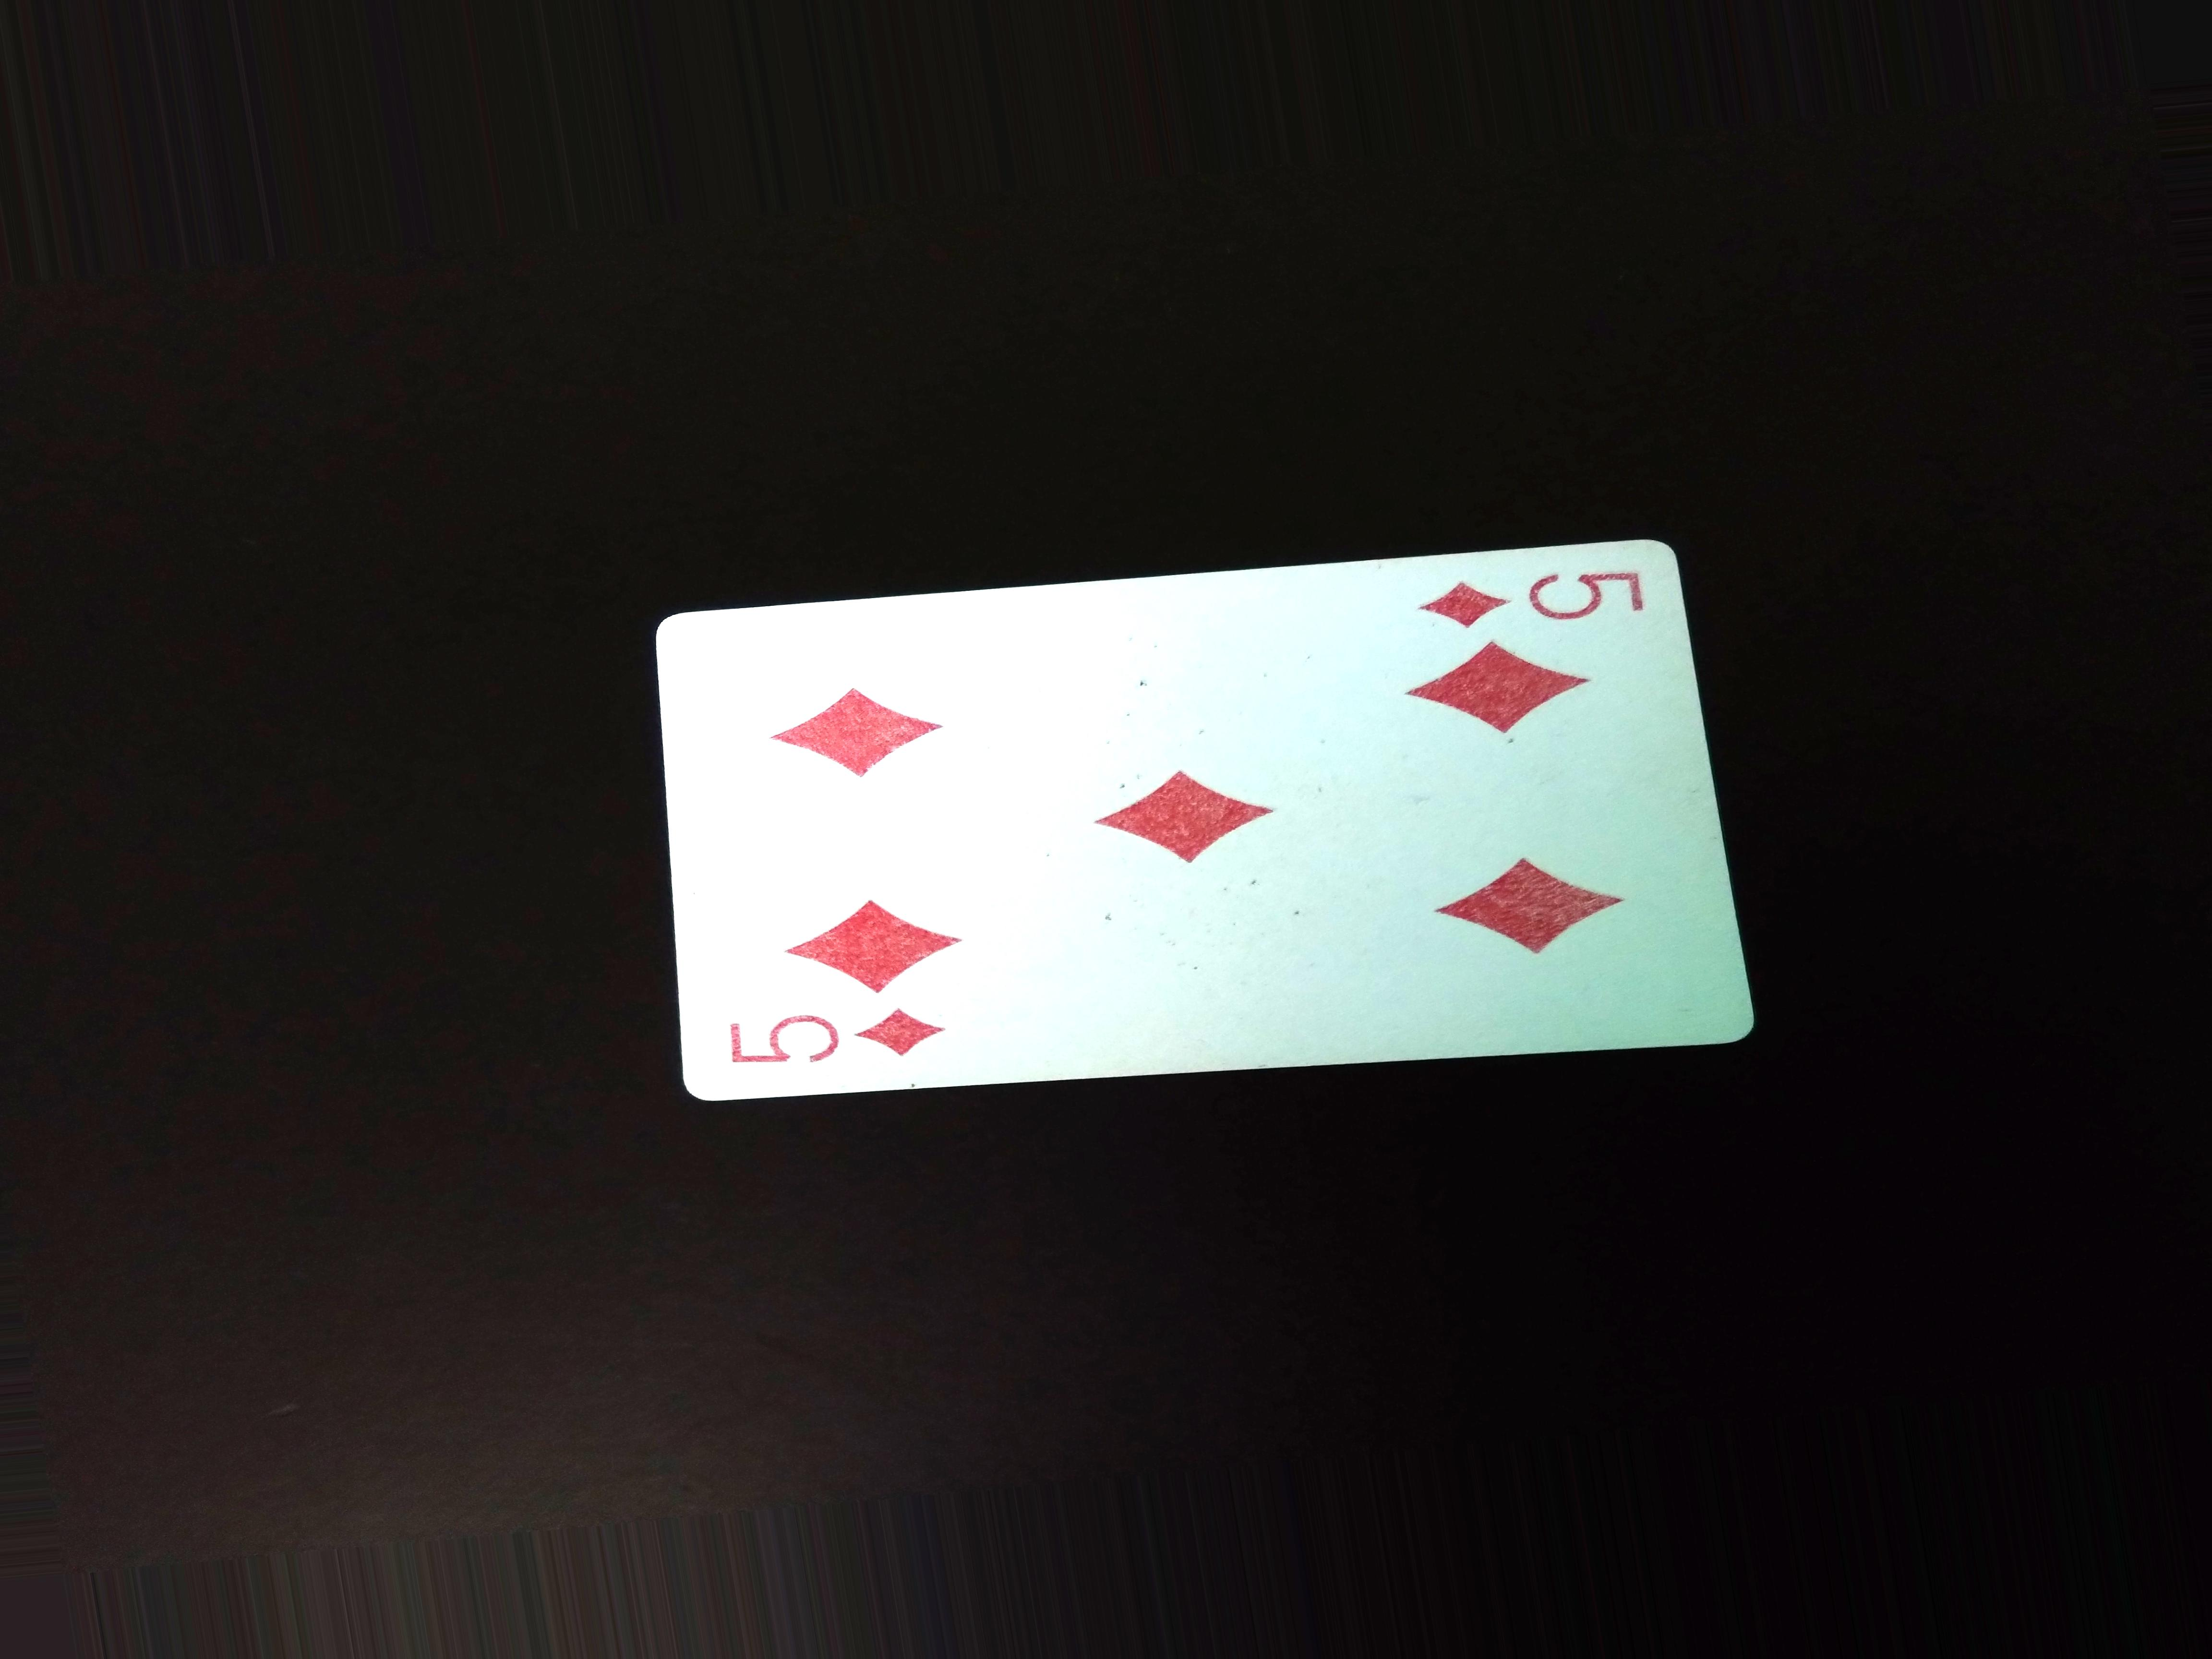5D: (1423, 559, 1660, 643)
